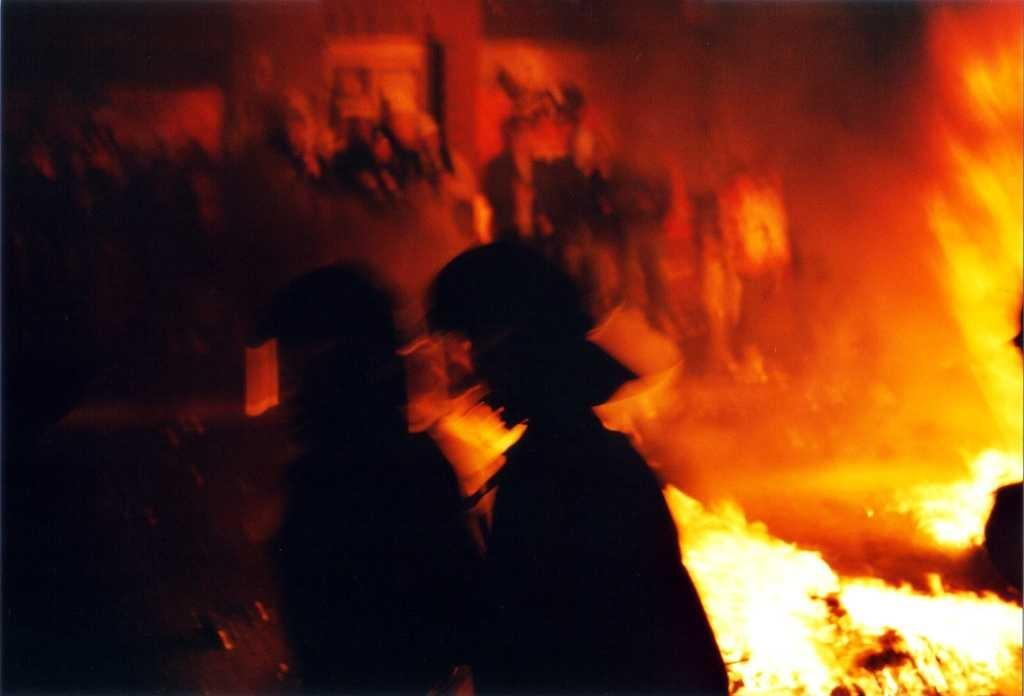fire: (890, 10, 1016, 499), (686, 508, 1014, 693)
